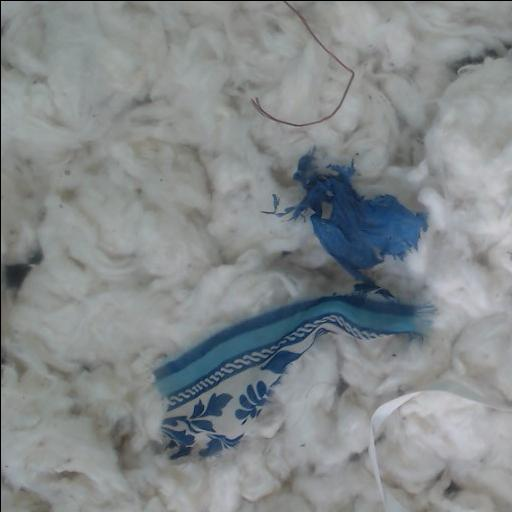cloth: (154, 153, 432, 459)
cotton: (1, 1, 512, 512), (377, 397, 512, 512)
thread: (368, 380, 512, 512), (252, 1, 354, 127)
